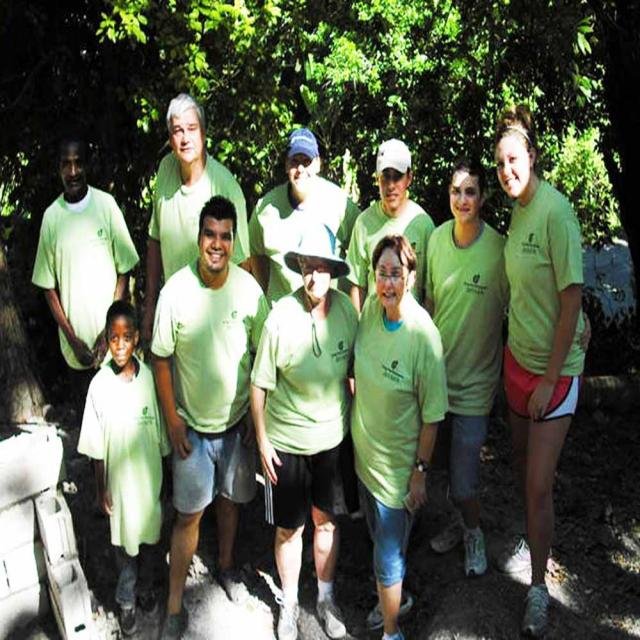body: (418, 148, 594, 575), (146, 191, 275, 639), (488, 99, 593, 632), (248, 218, 368, 639), (29, 131, 144, 519), (348, 233, 451, 640), (138, 92, 254, 346), (90, 298, 172, 635), (246, 124, 362, 316), (346, 137, 440, 328)
